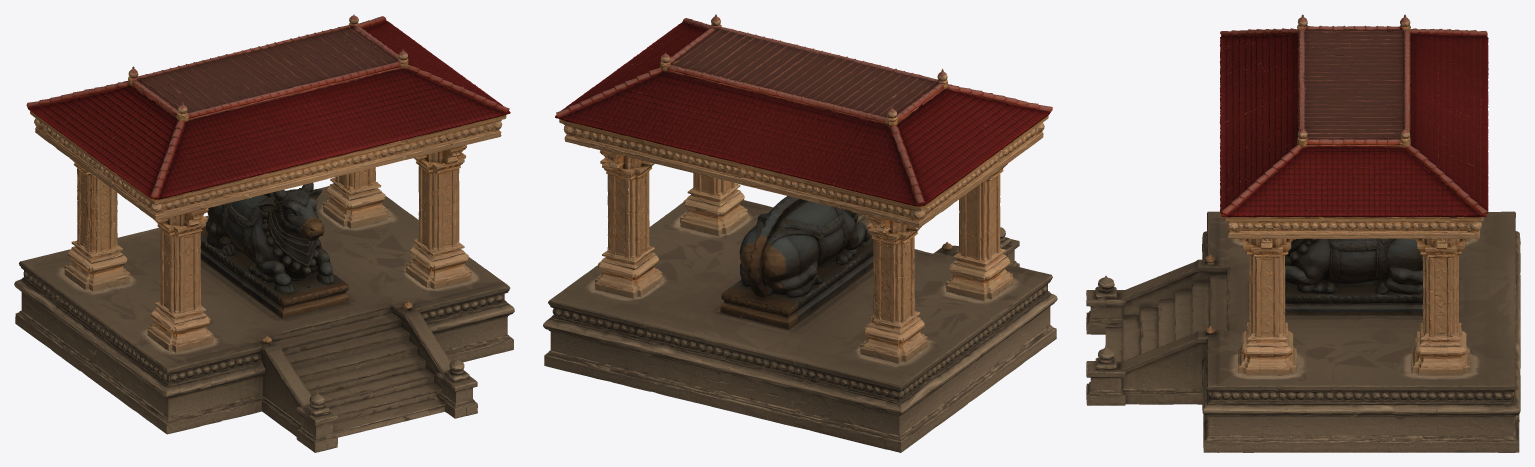
Rendered from nandi-lo.glb.
3 views of the same model, side by side, from view 1: azimuth 30°, elevation 25°; view 2: azimuth 150°, elevation 25°; view 3: azimuth 270°, elevation 25° (orthographic). The views are drawn at different scales.
Visible parts, largest first — view 1: tripo_node_16b73997-3212-407d-a541-d48e3df051c7; view 2: tripo_node_16b73997-3212-407d-a541-d48e3df051c7; view 3: tripo_node_16b73997-3212-407d-a541-d48e3df051c7.
Part boxes in pixels (x1,y1,x2,y2): tripo_node_16b73997-3212-407d-a541-d48e3df051c7: [14, 14, 514, 452]; tripo_node_16b73997-3212-407d-a541-d48e3df051c7: [543, 14, 1057, 452]; tripo_node_16b73997-3212-407d-a541-d48e3df051c7: [1086, 14, 1520, 452].
Size of the model in its own units: 0.9765 by 0.7348 by 0.9801.
1 material, 1 textured.
